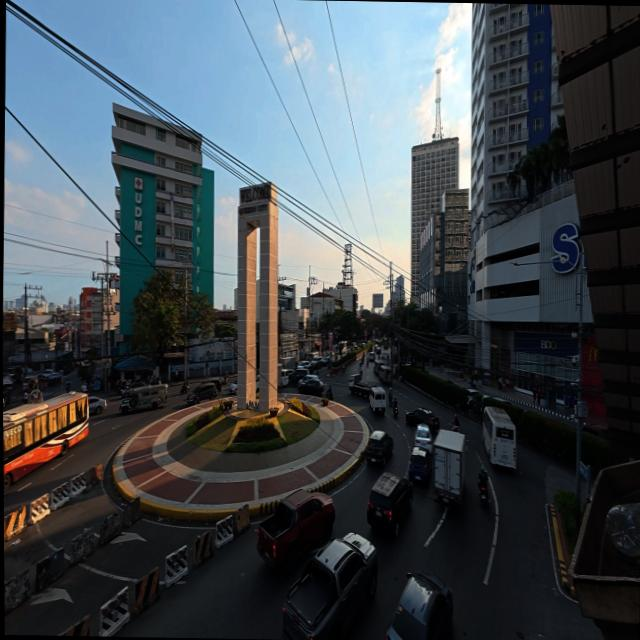Jeepneys: (120, 378, 169, 414)
car: (364, 472, 412, 539), (365, 428, 394, 464)
trucks: (284, 528, 380, 640)
vans: (367, 385, 388, 413)
